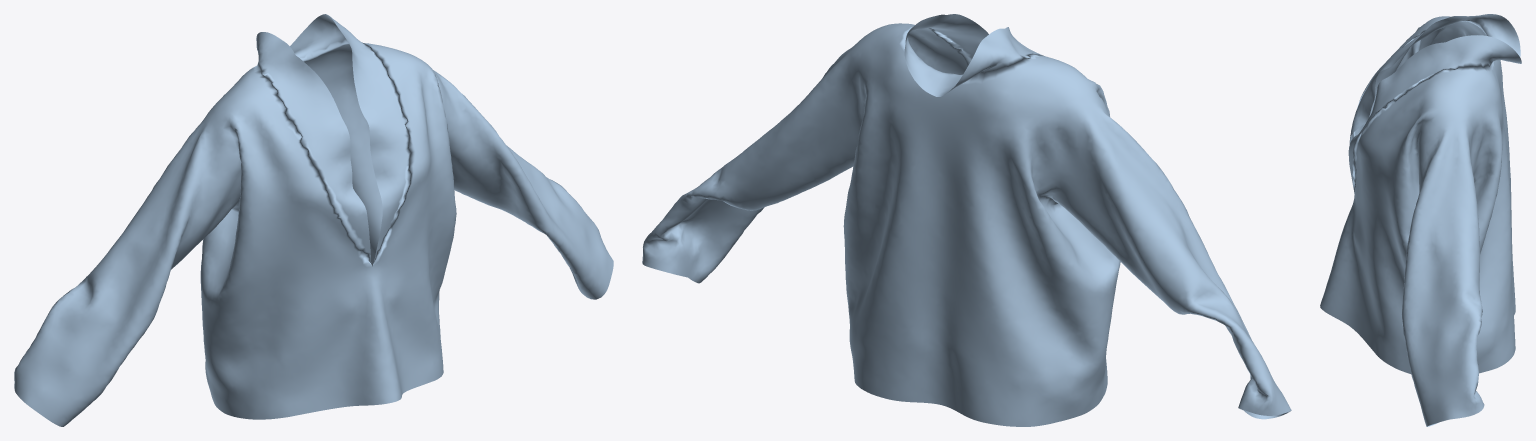
The model's file is jacket_XXL.glb.
The picture shows the model from 3 angles, left to right: view 1: azimuth 30°, elevation 25°; view 2: azimuth 150°, elevation 25°; view 3: azimuth 270°, elevation 25°; orthographic projection. The views are drawn at different scales.
Parts seen in each view (by area): view 1: geometry_0; view 2: geometry_0; view 3: geometry_0.
Part boxes in pixels (left/top/right/bottom): geometry_0: left=14, top=14, right=613, bottom=426; geometry_0: left=642, top=14, right=1291, bottom=426; geometry_0: left=1320, top=14, right=1521, bottom=426.
Size of the model in its own units: 1.25 by 0.697 by 0.4094.
